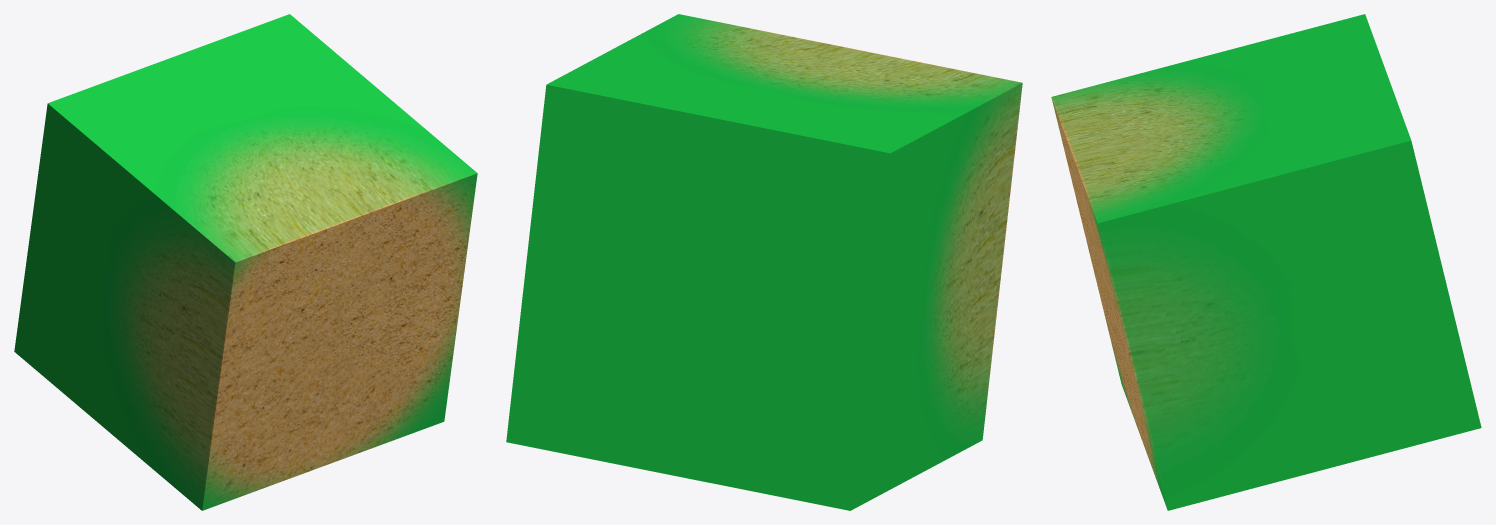
File: bluecube.fbx
The picture shows the model from 3 angles, left to right: view 1: azimuth 30°, elevation 25°; view 2: azimuth 150°, elevation 25°; view 3: azimuth 270°, elevation 25°; orthographic projection. The views are drawn at different scales.
Parts seen in each view (by area): view 1: root; view 2: root; view 3: root.
Boxes of the visible parts, bbox=[...] form: root: bbox=[14, 14, 477, 510]; root: bbox=[506, 14, 1022, 510]; root: bbox=[1051, 14, 1481, 510].
Size of the model in its own units: 0.227 by 0.2443 by 0.2649.
1 material, 1 textured.
